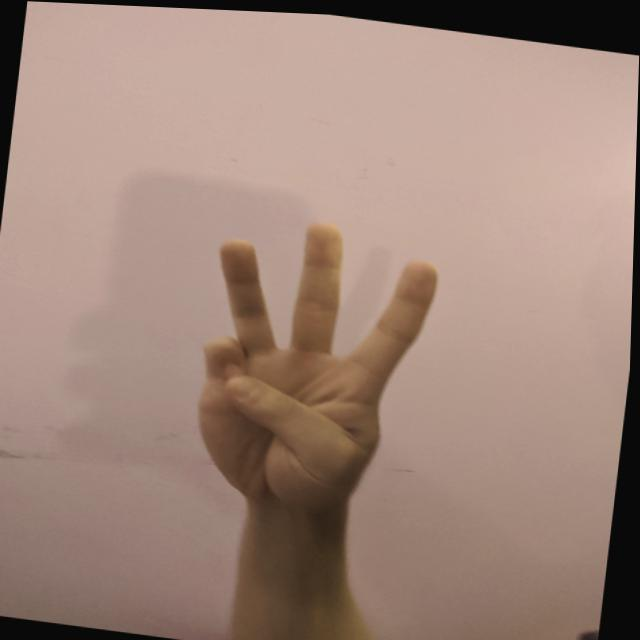W: (178, 201, 450, 526)
